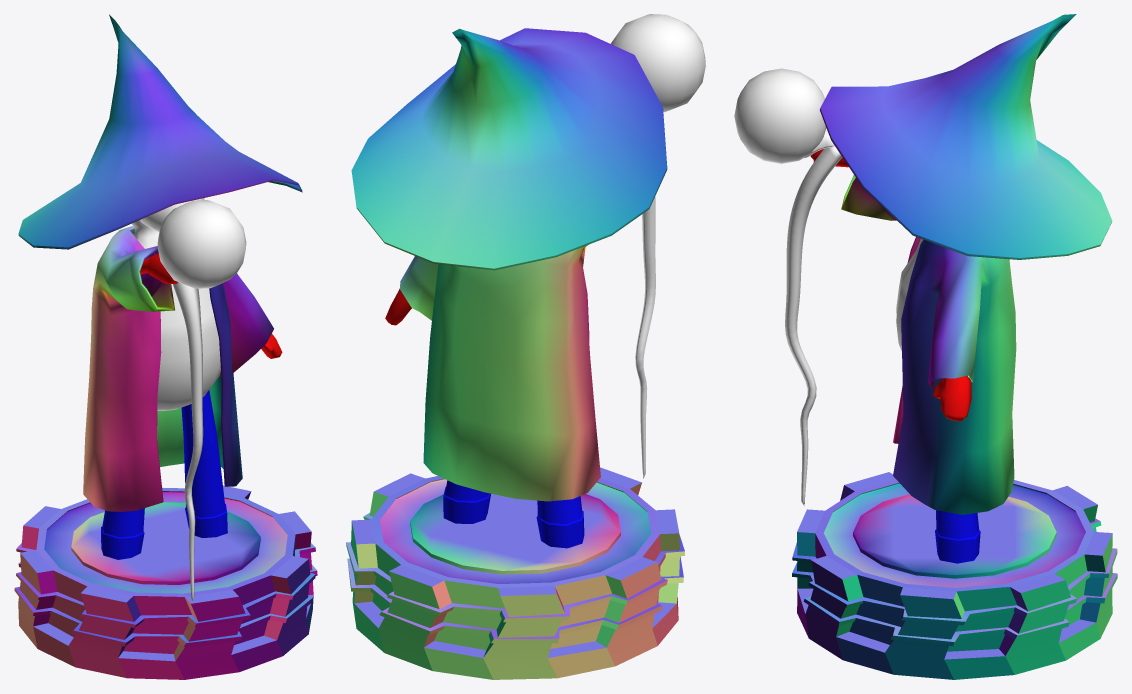
File: Statue1 1.fbx
The picture shows the model from 3 angles, left to right: view 1: azimuth 30°, elevation 25°; view 2: azimuth 150°, elevation 25°; view 3: azimuth 270°, elevation 25°; orthographic projection. The views are drawn at different scales.
Visible parts, largest first — view 1: pCube9, Robes, hat, Plane, pCube5, Wool, sweep1, Cube.002; view 2: hat, pCube9, Robes, pCube5, Plane, sweep1; view 3: pCube9, hat, Robes, pCube5, sweep1, Plane, Wool.
Part boxes in pixels (bbox=[...]): pCube9: bbox=[14, 485, 317, 679]; Robes: bbox=[83, 226, 273, 511]; hat: bbox=[18, 14, 302, 249]; Plane: bbox=[101, 253, 282, 559]; pCube5: bbox=[157, 200, 246, 288]; Wool: bbox=[131, 220, 220, 410]; sweep1: bbox=[173, 282, 203, 601]; Cube.002: bbox=[140, 198, 204, 231]; hat: bbox=[351, 28, 667, 270]; pCube9: bbox=[346, 467, 684, 679]; Robes: bbox=[400, 245, 600, 501]; pCube5: bbox=[611, 14, 705, 112]; Plane: bbox=[385, 288, 584, 548]; sweep1: bbox=[635, 196, 655, 478]; pCube9: bbox=[792, 472, 1117, 679]; hat: bbox=[820, 14, 1112, 259]; Robes: bbox=[841, 175, 1016, 514]; pCube5: bbox=[734, 68, 826, 163]; sweep1: bbox=[785, 128, 842, 506]; Plane: bbox=[810, 149, 980, 563]; Wool: bbox=[896, 238, 923, 351].
Bounding box in the file's own units: 120 × 244 × 141.
